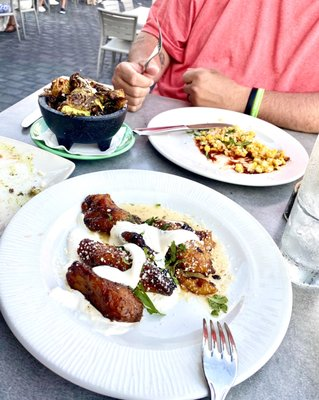sushi: (37, 71, 128, 151)
